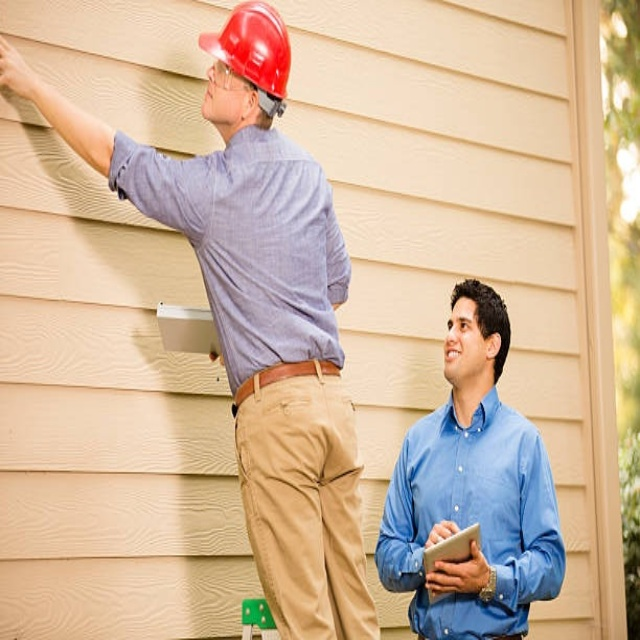Gafas: (209, 61, 248, 91)
Sin_gafas: (445, 311, 473, 342)
Sin_guantes: (429, 537, 489, 598), (1, 28, 31, 107)
Sin_mascara: (441, 344, 467, 376), (199, 80, 222, 116)
